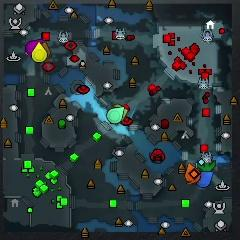p1: (196, 170, 214, 187)
p2: (106, 106, 124, 125)
p3: (25, 39, 45, 58)
p4: (31, 42, 47, 63)
p5: (184, 163, 200, 186)
x2: (114, 103, 129, 122)
x4: (196, 160, 217, 170)
x5: (41, 41, 52, 58)
